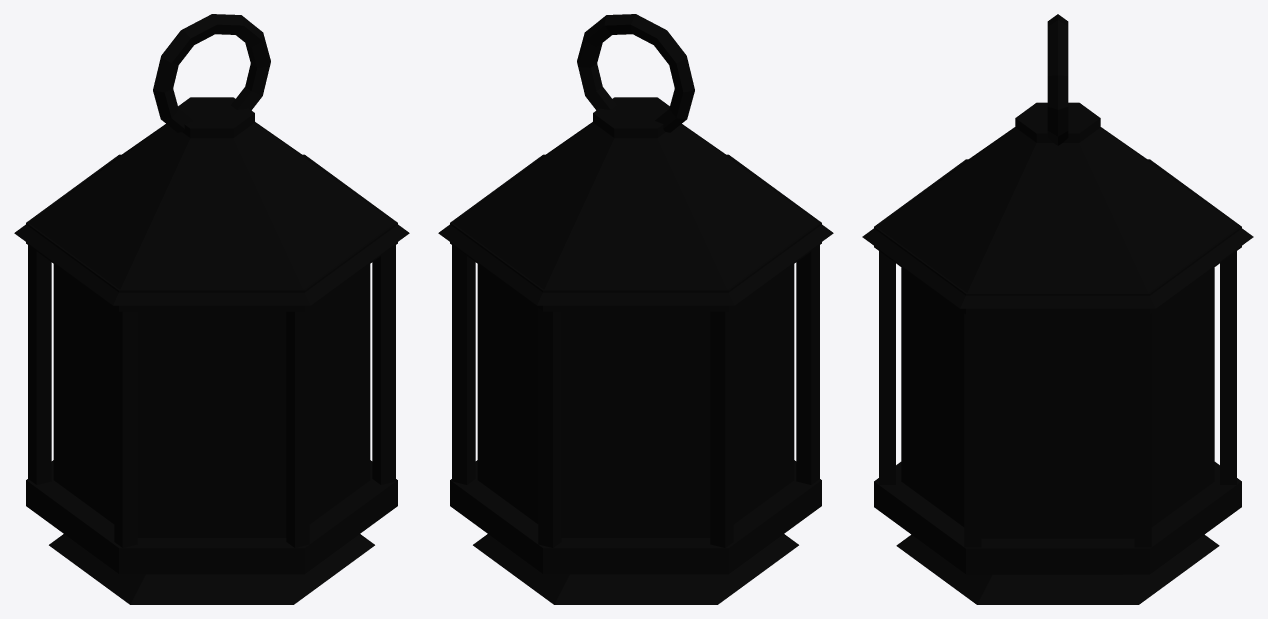
File: tb_lantern.unity-fbx.fbx
3 views of the same model, side by side, from view 1: azimuth 30°, elevation 25°; view 2: azimuth 150°, elevation 25°; view 3: azimuth 270°, elevation 25° (orthographic).
Visible parts, largest first — view 1: lantern_body; view 2: lantern_body; view 3: lantern_body.
Part boxes in pixels (x1,y1,x2,y2): lantern_body: (14,14,409,604); lantern_body: (438,14,833,604); lantern_body: (862,14,1253,604).
Size of the model in its own units: 0.251 by 0.4563 by 0.2898.
Materials: 1 (1 with a texture image).
